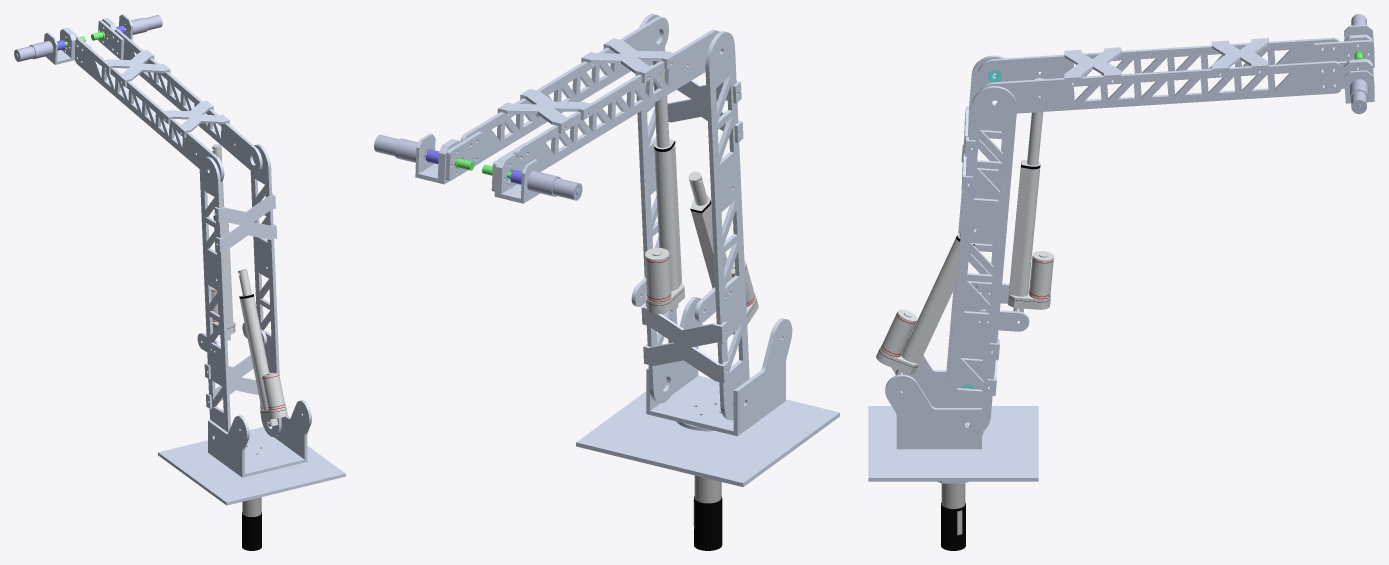
The model's file is Bhagirathi.glb.
The picture shows the model from 3 angles, left to right: view 1: azimuth 30°, elevation 25°; view 2: azimuth 150°, elevation 25°; view 3: azimuth 270°, elevation 25°; orthographic projection. The views are drawn at different scales.
Visible parts, largest first — view 1: base_plate_0-1 - Part, link1_new-10 - Part, link1_new-11 - Part, link2_new-11 - Part, link2_new-10 - Part, linearact_base_part-1 - Part, v2_ new_Link1_supportplate-7 - Part, new_base-1 - Part, new_side_plate_v3-3 - Part, new_side_plate_v3-1 - Part, v2_new_Link2_supportplate-8 - Part, v2_new_Link2_supportplate-7 - Part (+7 smaller); view 2: base_plate_0-1 - Part, link1_new-10 - Part, link2_new-11 - Part, link2_new-10 - Part, linearact_base_part-1 2 - Part, link1_new-11 - Part, v2_ new_Link1_supportplate-6 - Part, new_side_plate_v3-3 - Part, new_base-1 - Part, v2_new_Link2_supportplate-8 - Part, v2_new_Link2_supportplate-7 - Part, linearact_base_part-1 - Part (+10 smaller); view 3: link1_new-11 - Part, link2_new-10 - Part, base_plate_0-1 - Part, link2_new-11 - Part, new_side_plate_v3-1 - Part, linearact_base_part-1 2 - Part, linearact_base_part-1 - Part, link1_new-10 - Part, v2_new_Link2_supportplate-8 - Part, v2_new_Link2_supportplate-7 - Part, new_side_plate_v3-3 - Part, Gear Bracket refined-1 - Part (+6 smaller).
Boxes of the visible parts, <box> form: base_plate_0-1 - Part: <box>158,426,345,505</box>; link1_new-10 - Part: <box>199,156,230,432</box>; link1_new-11 - Part: <box>250,144,281,436</box>; link2_new-11 - Part: <box>74,38,224,181</box>; link2_new-10 - Part: <box>114,29,262,173</box>; linearact_base_part-1 - Part: <box>240,294,287,426</box>; v2_ new_Link1_supportplate-7 - Part: <box>214,194,277,252</box>; new_base-1 - Part: <box>208,435,307,477</box>; new_side_plate_v3-3 - Part: <box>208,415,249,474</box>; new_side_plate_v3-1 - Part: <box>271,400,311,459</box>; v2_new_Link2_supportplate-8 - Part: <box>161,101,229,137</box>; v2_new_Link2_supportplate-7 - Part: <box>102,50,170,86</box>; base_plate_0-1 - Part: <box>576,391,839,487</box>; link1_new-10 - Part: <box>705,31,749,420</box>; link2_new-11 - Part: <box>514,30,719,184</box>; link2_new-10 - Part: <box>460,16,668,161</box>; linearact_base_part-1 2 - Part: <box>645,139,684,313</box>; link1_new-11 - Part: <box>635,14,678,403</box>; v2_ new_Link1_supportplate-6 - Part: <box>641,304,729,383</box>; new_side_plate_v3-3 - Part: <box>733,318,792,432</box>; new_base-1 - Part: <box>646,375,785,436</box>; v2_new_Link2_supportplate-8 - Part: <box>581,38,676,83</box>; v2_new_Link2_supportplate-7 - Part: <box>497,89,593,133</box>; linearact_base_part-1 - Part: <box>690,195,758,334</box>; link1_new-11 - Part: <box>946,86,1016,432</box>; link2_new-10 - Part: <box>980,61,1341,113</box>; base_plate_0-1 - Part: <box>868,406,1038,481</box>; link2_new-11 - Part: <box>978,37,1339,86</box>; new_side_plate_v3-1 - Part: <box>885,374,981,445</box>; linearact_base_part-1 2 - Part: <box>1008,160,1053,312</box>; linearact_base_part-1 - Part: <box>876,233,974,375</box>; link1_new-10 - Part: <box>945,55,1005,392</box>; v2_new_Link2_supportplate-8 - Part: <box>1064,47,1121,86</box>; v2_new_Link2_supportplate-7 - Part: <box>1211,38,1268,77</box>; new_side_plate_v3-3 - Part: <box>891,338,968,407</box>; Gear Bracket refined-1 - Part: <box>1314,40,1372,63</box>.
Bounding box in the file's own units: 0.362 × 0.9661 × 0.8913.
